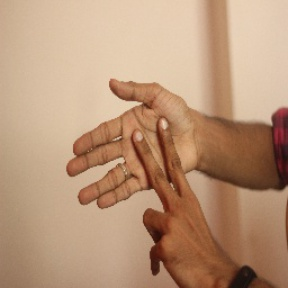N: (62, 76, 207, 265)
